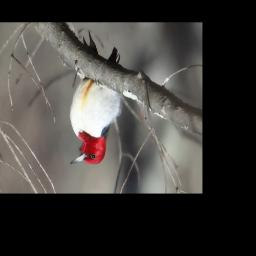Woodpecker: (67, 27, 125, 165)
